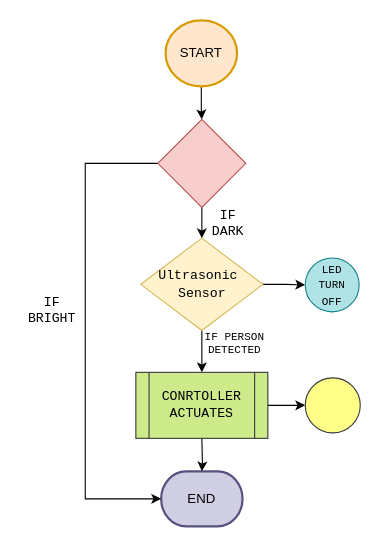
This 380x546 diagram has some shape labels left out. Here are the shapes that lost their labels. From the top down, the centre of each, then its label:
At (x=201, y=162): "LDR Sensor".
At (x=332, y=405): "LED TURN ON".
